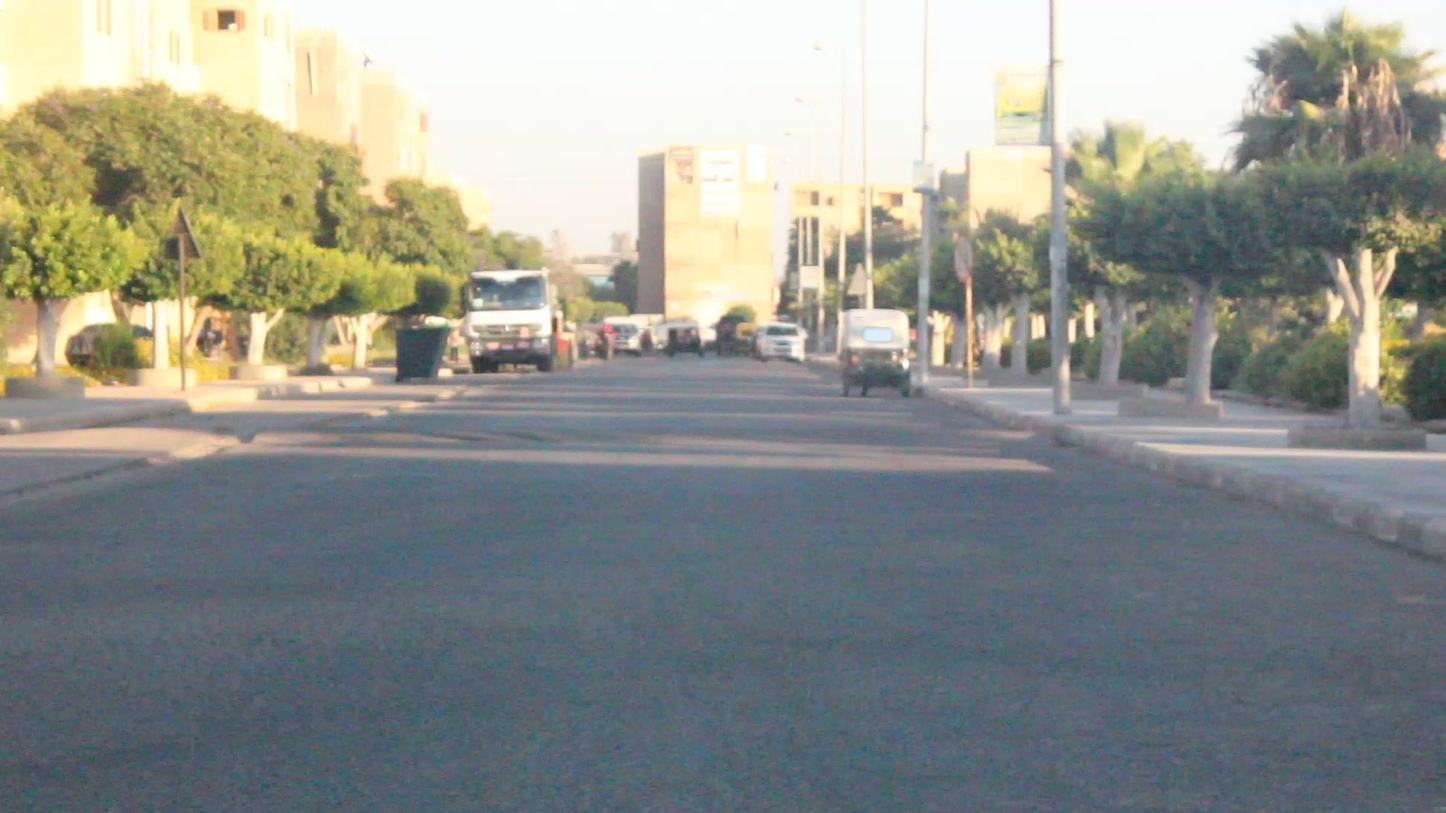Bump: (250, 408, 1060, 461)
